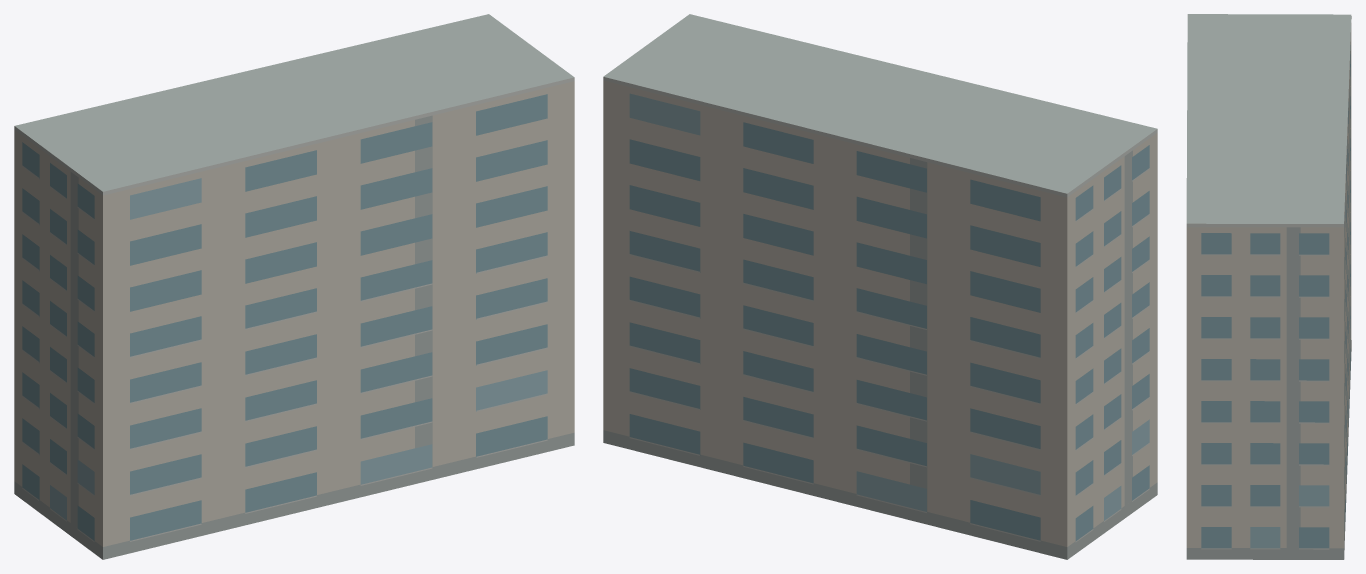
File: residential-50ea38fa-6236-4180-b6f3-4db42f3c02a9.glb
3 views of the same model, side by side, from view 1: azimuth 30°, elevation 25°; view 2: azimuth 150°, elevation 25°; view 3: azimuth 270°, elevation 25° (orthographic). The views are drawn at different scales.
Visible parts, largest first — view 1: residential-50ea38fa-6236-4180-b6f3-4db42f3c02a9.tmp; view 2: residential-50ea38fa-6236-4180-b6f3-4db42f3c02a9.tmp; view 3: residential-50ea38fa-6236-4180-b6f3-4db42f3c02a9.tmp.
Boxes of the visible parts, bbox=[...] form: residential-50ea38fa-6236-4180-b6f3-4db42f3c02a9.tmp: bbox=[14, 14, 574, 559]; residential-50ea38fa-6236-4180-b6f3-4db42f3c02a9.tmp: bbox=[603, 14, 1157, 559]; residential-50ea38fa-6236-4180-b6f3-4db42f3c02a9.tmp: bbox=[1186, 14, 1351, 559].
Size of the model in its own units: 32.2 by 24 by 10.69.
